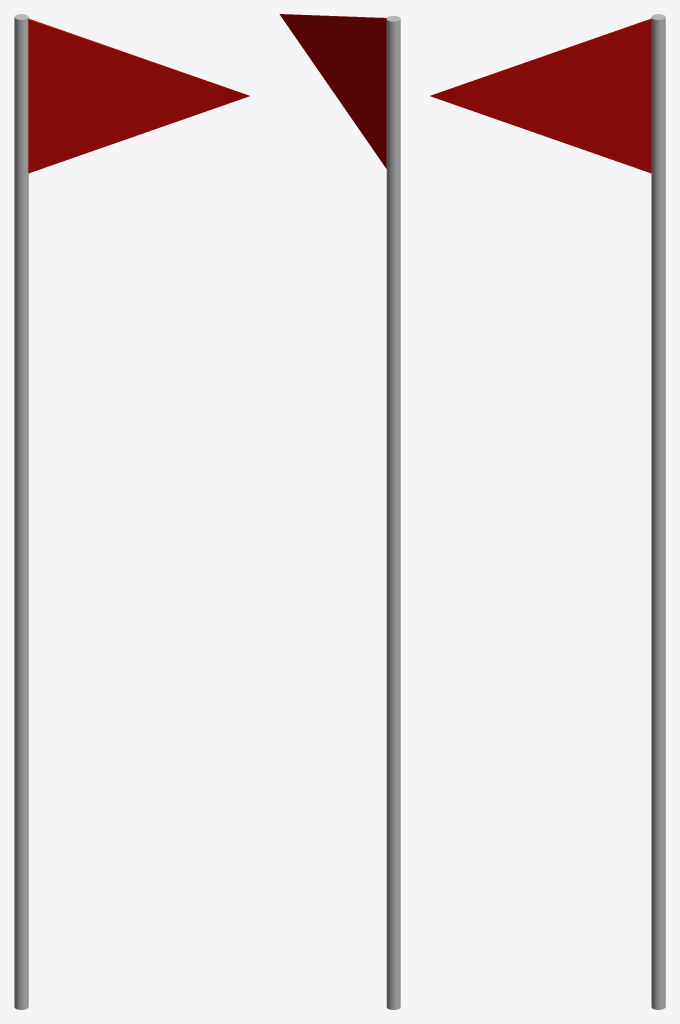
The model's file is Flag.fbx.
The picture shows the model from 3 angles, left to right: view 1: azimuth 90°, elevation 25°; view 2: azimuth 210°, elevation 25°; view 3: azimuth 270°, elevation 25°; orthographic projection.
Visible parts, largest first — view 1: Pyramid, Cylinder; view 2: Cylinder, Pyramid; view 3: Pyramid, Cylinder.
Part boxes in pixels (x1,y1,x2,y2): Pyramid: (28, 18, 249, 173); Cylinder: (14, 14, 28, 1009); Cylinder: (386, 16, 400, 1009); Pyramid: (279, 14, 386, 168); Pyramid: (430, 18, 651, 173); Cylinder: (651, 14, 665, 1009).
Size of the model in its own units: 2 by 155 by 33.55.
